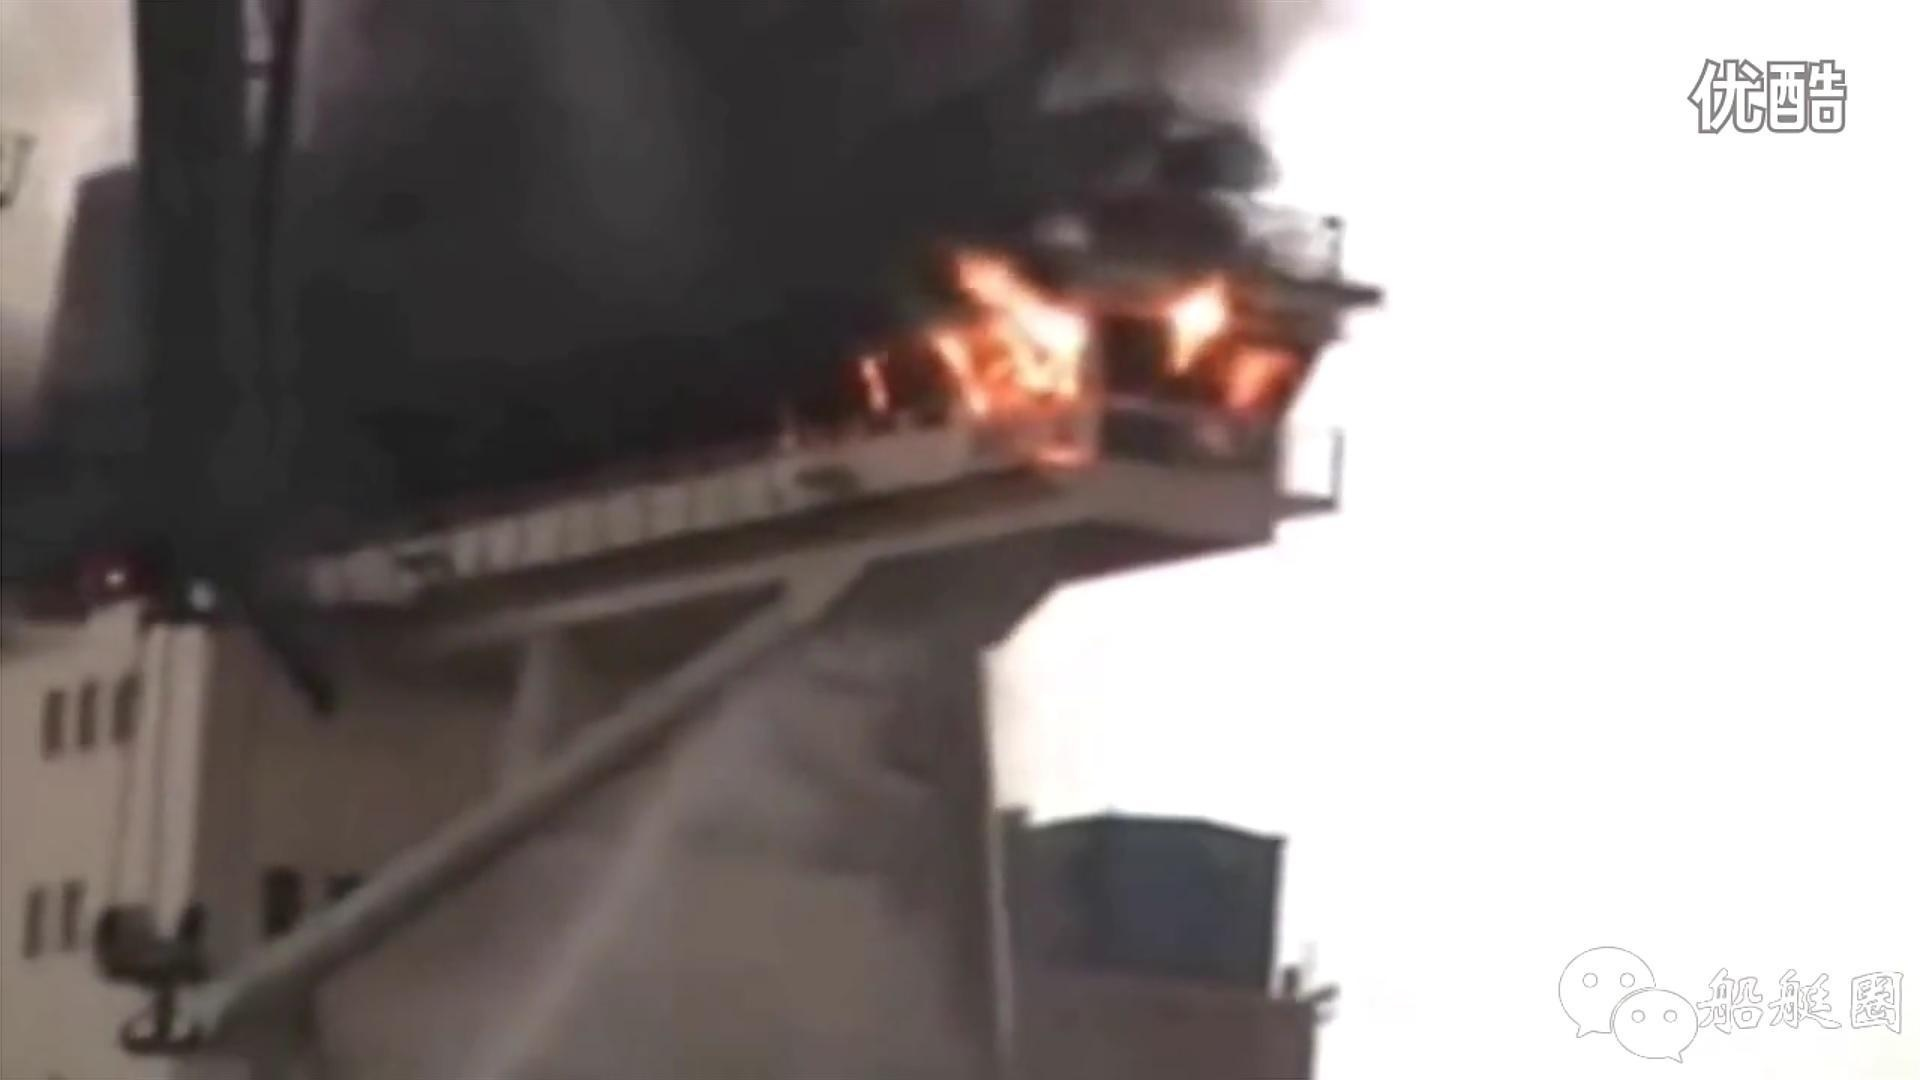fire: (919, 255, 1093, 415)
